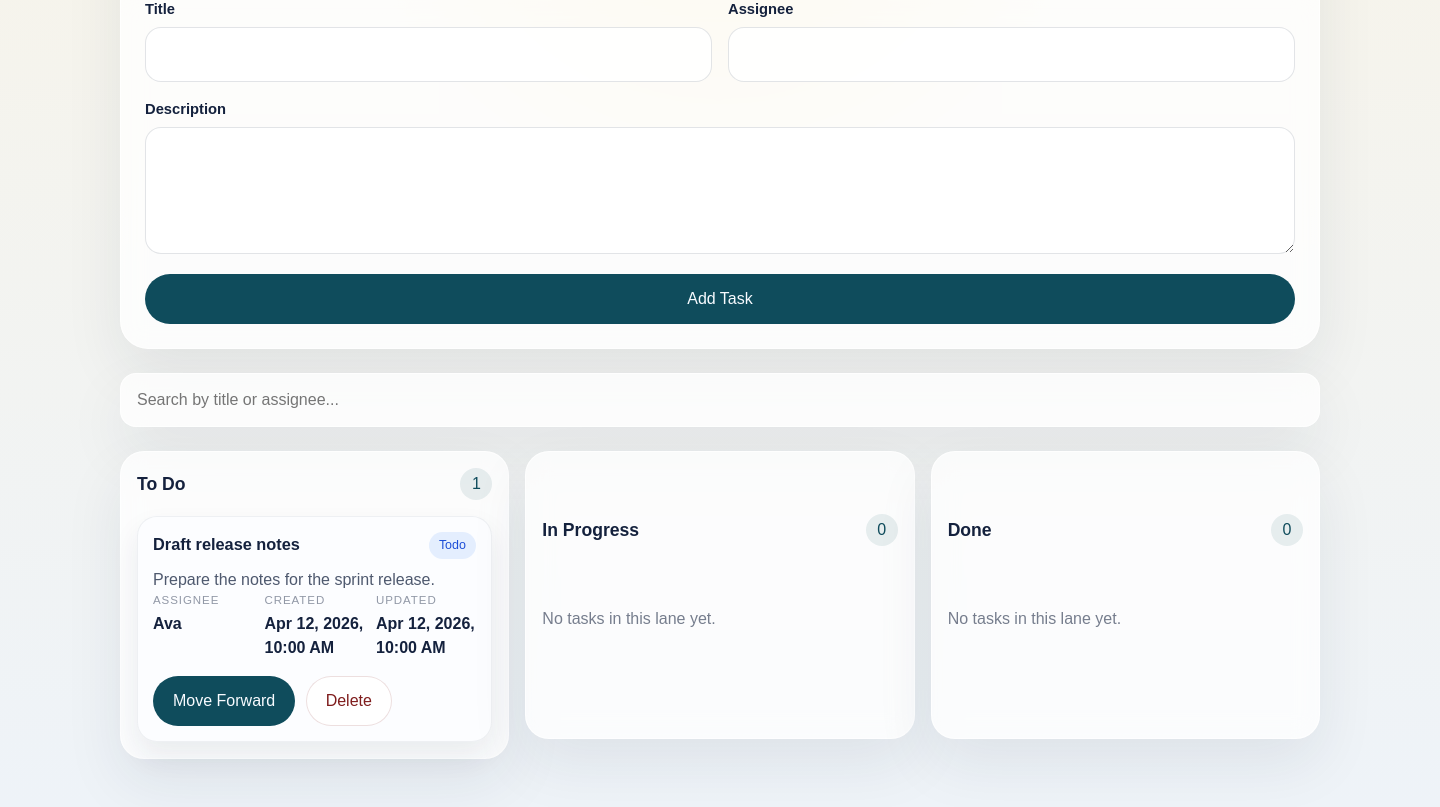
it: App › deletes a task and removes it after refetch
(page scrolled)
Step 1. Click the button "Delete" → point(349, 701), box [306,676,392,726]
(page scrolled)
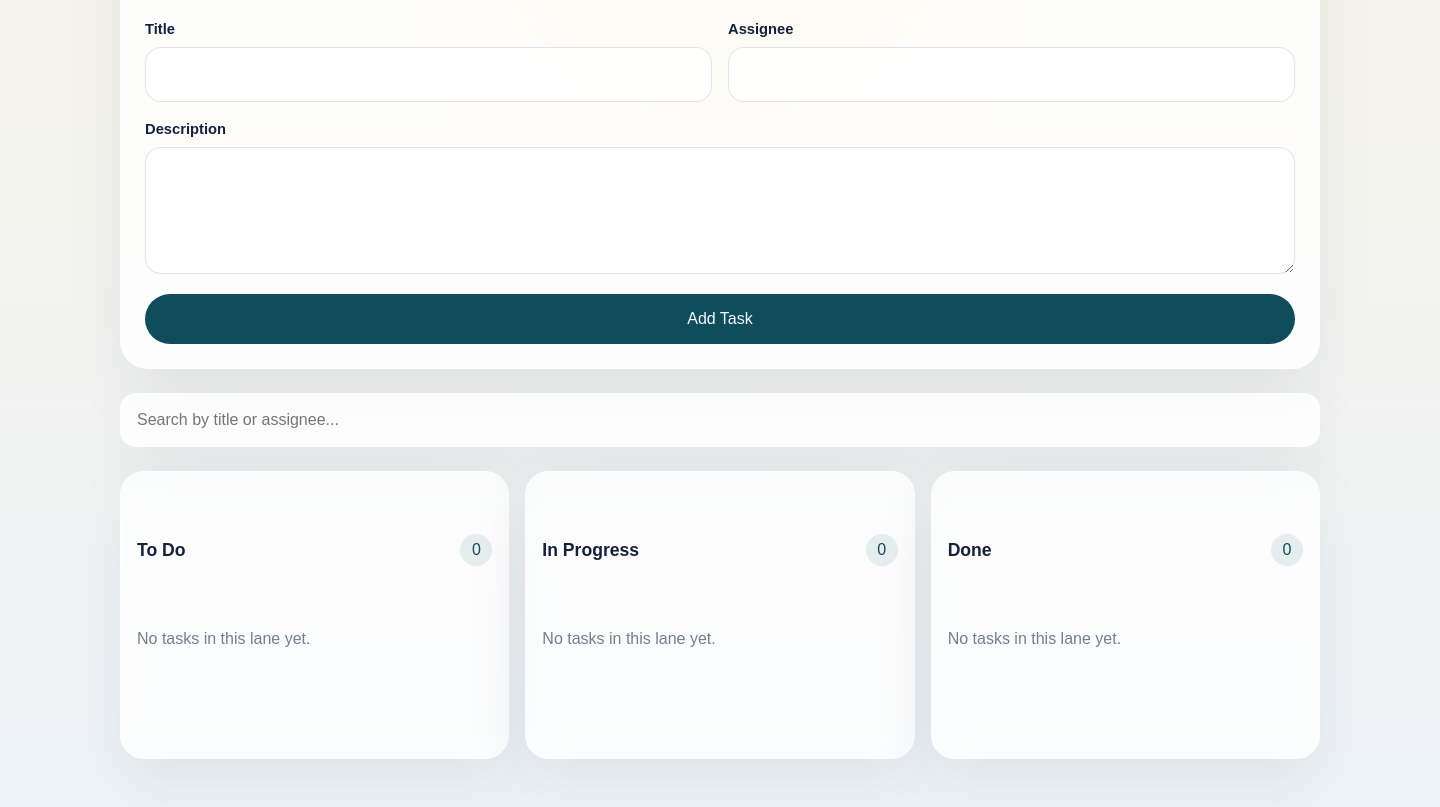
Result: the heading "Draft release notes" is gone
